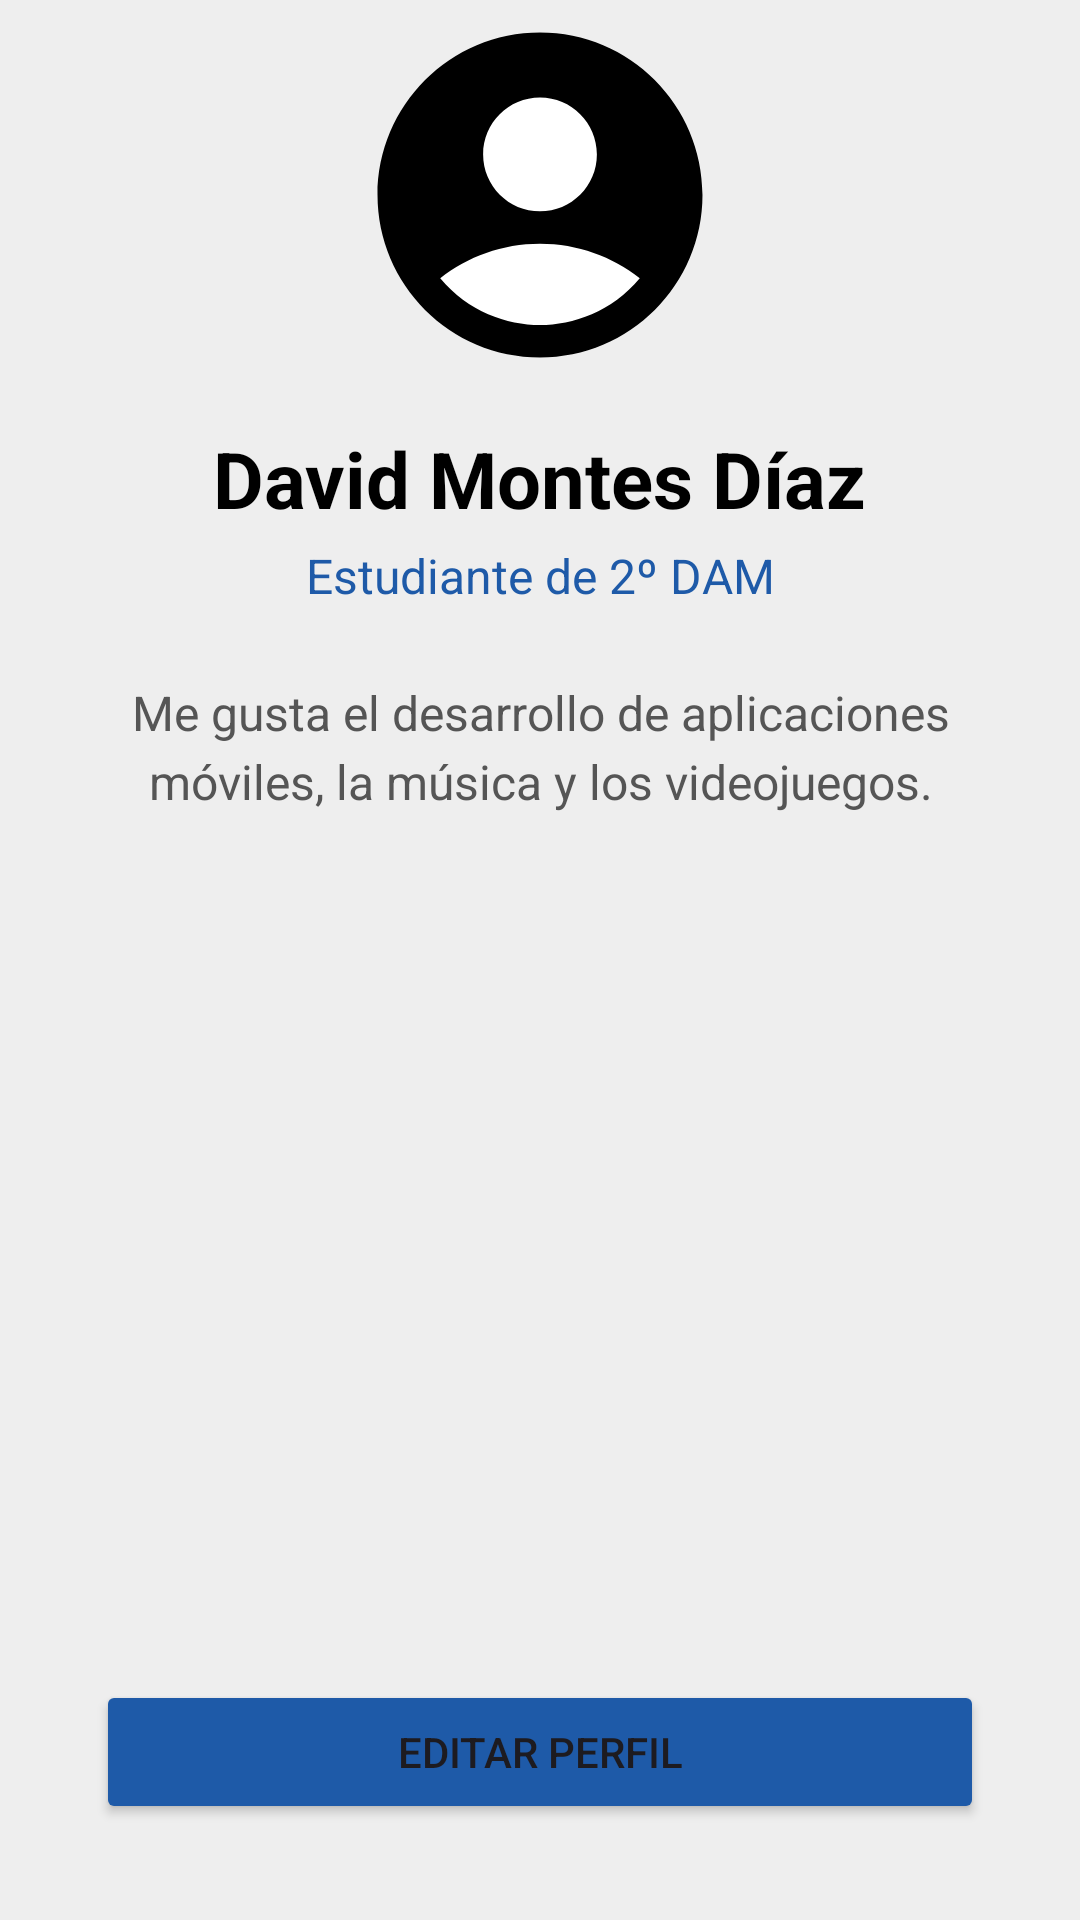

Where icons sit on this 1080 × 1920 app screen, as (x1, y1, x2, y2):
Imagen de perfil: (377, 32, 703, 358)
